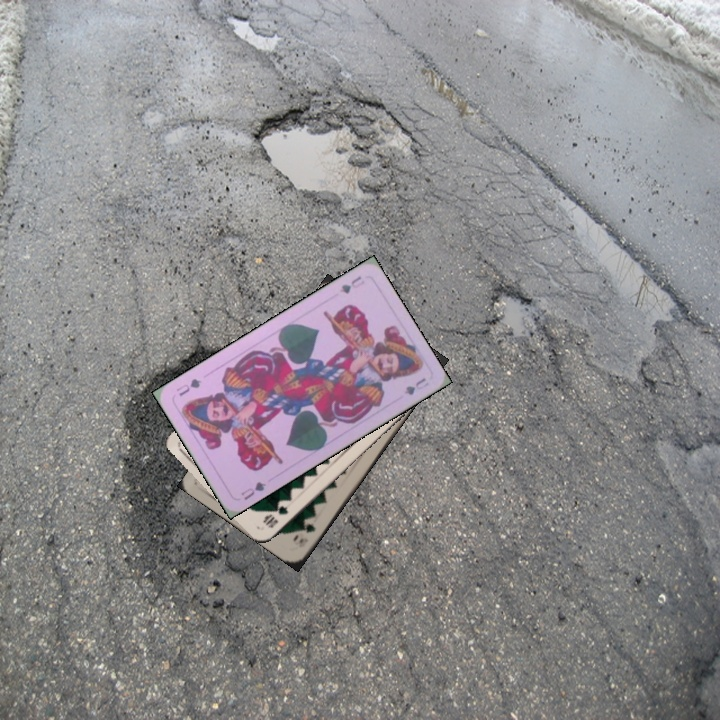G10: (259, 501, 291, 531), (295, 519, 318, 546)
GU: (237, 477, 269, 503), (336, 272, 367, 297)
